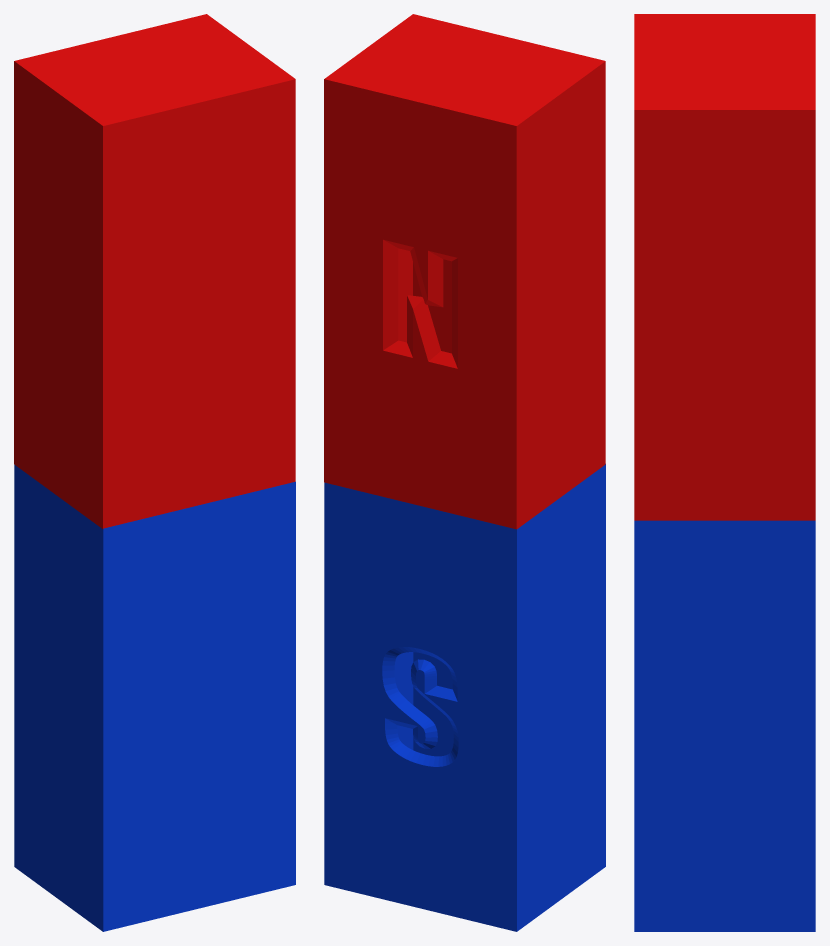
The model's file is magnet.gltf.
The picture shows the model from 3 angles, left to right: view 1: azimuth 30°, elevation 25°; view 2: azimuth 150°, elevation 25°; view 3: azimuth 270°, elevation 25°; orthographic projection. The views are drawn at different scales.
Parts seen in each view (by area): view 1: node_id60.001; view 2: node_id60.001; view 3: node_id60.001.
Boxes of the visible parts, x1,y1,x2,y2 form: node_id60.001: (14, 14, 295, 931); node_id60.001: (324, 14, 605, 931); node_id60.001: (634, 14, 815, 931).
Size of the model in its own units: 0.6746 by 2.7 by 0.5398.
